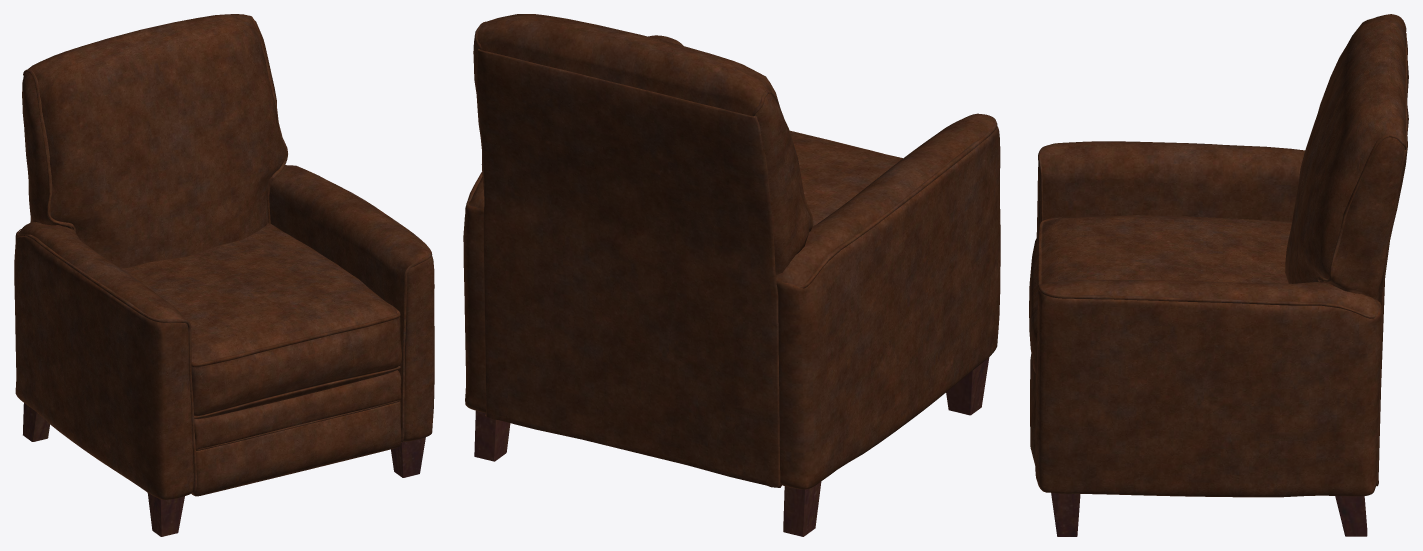
File: office_chair_B07B4FW792.glb
3 renders of one model, left to right at view 1: azimuth 30°, elevation 25°; view 2: azimuth 150°, elevation 25°; view 3: azimuth 270°, elevation 25°, orthographic. The views are drawn at different scales.
Parts seen in each view (by area): view 1: RootNode; view 2: RootNode; view 3: RootNode.
Boxes of the visible parts, x1,y1,x2,y2 form: RootNode: (14, 14, 434, 536); RootNode: (463, 14, 1000, 536); RootNode: (1029, 14, 1408, 536).
Bounding box in the file's own units: 0.8389 × 1.01 × 0.85.
Materials: 1 (1 with a texture image).
